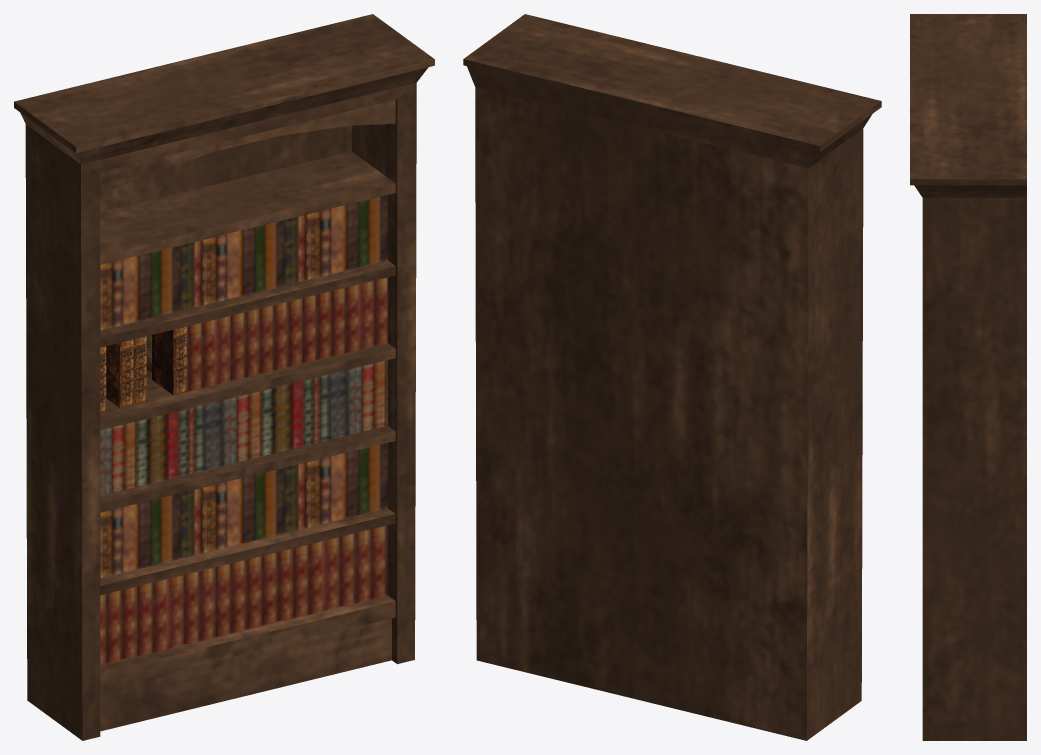
Rendered from knizniy_shkaf.fbx.
The picture shows the model from 3 angles, left to right: view 1: azimuth 30°, elevation 25°; view 2: azimuth 150°, elevation 25°; view 3: azimuth 270°, elevation 25°; orthographic projection. The views are drawn at different scales.
Visible parts, largest first — view 1: BookShelf_low.003, Cube.014, Cube.009, Cube.010, Cube.006, Cube.016, Cube.015; view 2: BookShelf_low.003; view 3: BookShelf_low.003.
Boxes of the visible parts, <box> form: BookShelf_low.003: <box>14,14,434,740</box>; Cube.014: <box>100,525,387,665</box>; Cube.009: <box>100,442,387,578</box>; Cube.010: <box>100,195,387,330</box>; Cube.006: <box>100,360,387,495</box>; Cube.016: <box>186,277,387,391</box>; Cube.015: <box>100,326,186,412</box>; BookShelf_low.003: <box>463,14,881,740</box>; BookShelf_low.003: <box>910,14,1026,740</box>.
Size of the model in its own units: 182 by 292 by 54.49.
5 materials, 5 textured.
